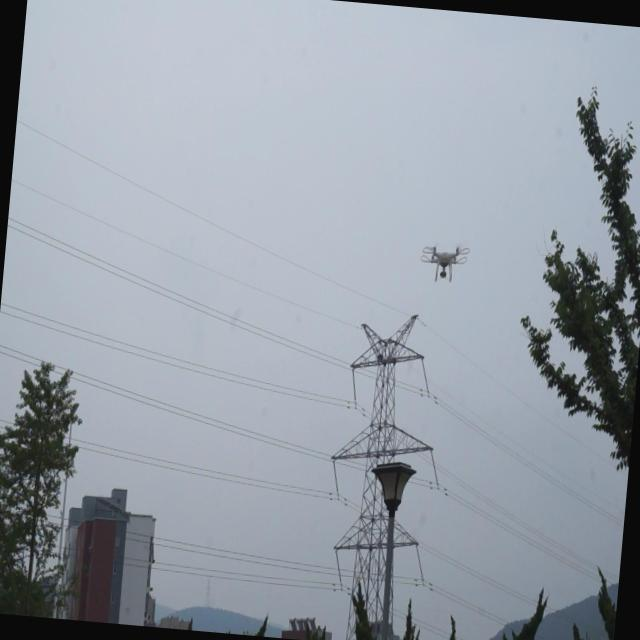drone: (416, 240, 469, 289)
